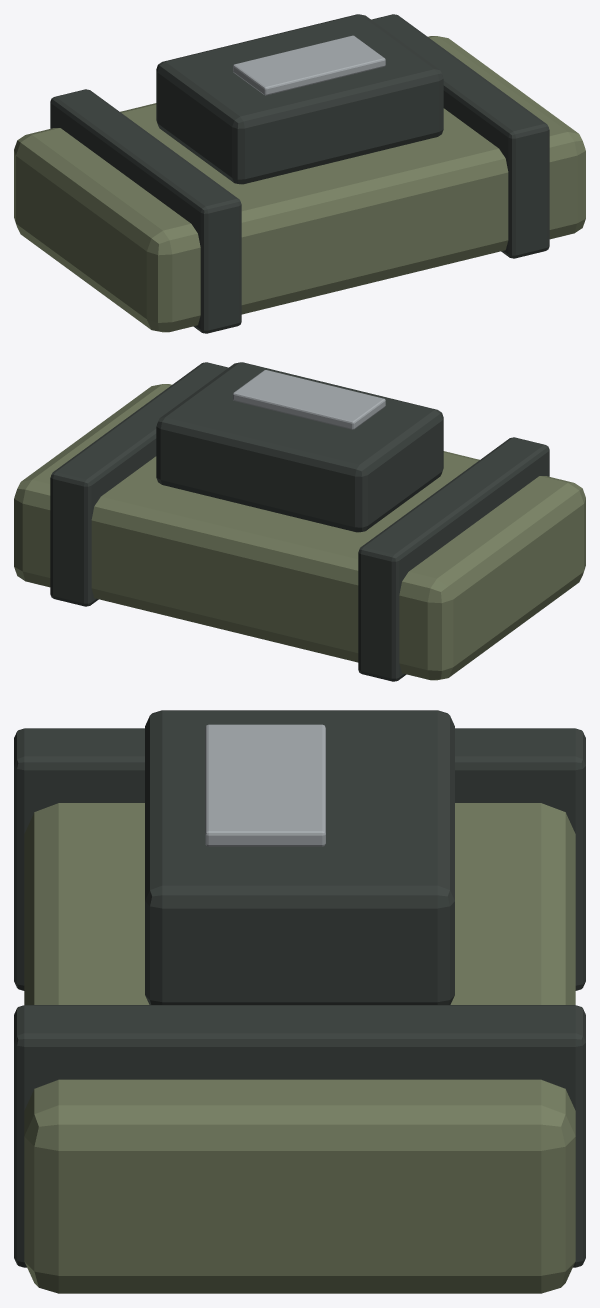
3 views of the same model, one above another, from view 1: azimuth 30°, elevation 25°; view 2: azimuth 150°, elevation 25°; view 3: azimuth 270°, elevation 25° (orthographic). The views are drawn at different scales.
Parts seen in each view (by area): view 1: Cube; view 2: Cube; view 3: Cube.
Boxes of the visible parts, x1=… form: Cube: x1=14, y1=14, x2=585, y2=333; Cube: x1=14, y1=362, x2=585, y2=681; Cube: x1=14, y1=710, x2=585, y2=1293.
Bounding box in the file's own units: 0.3 × 0.12 × 0.1844.
